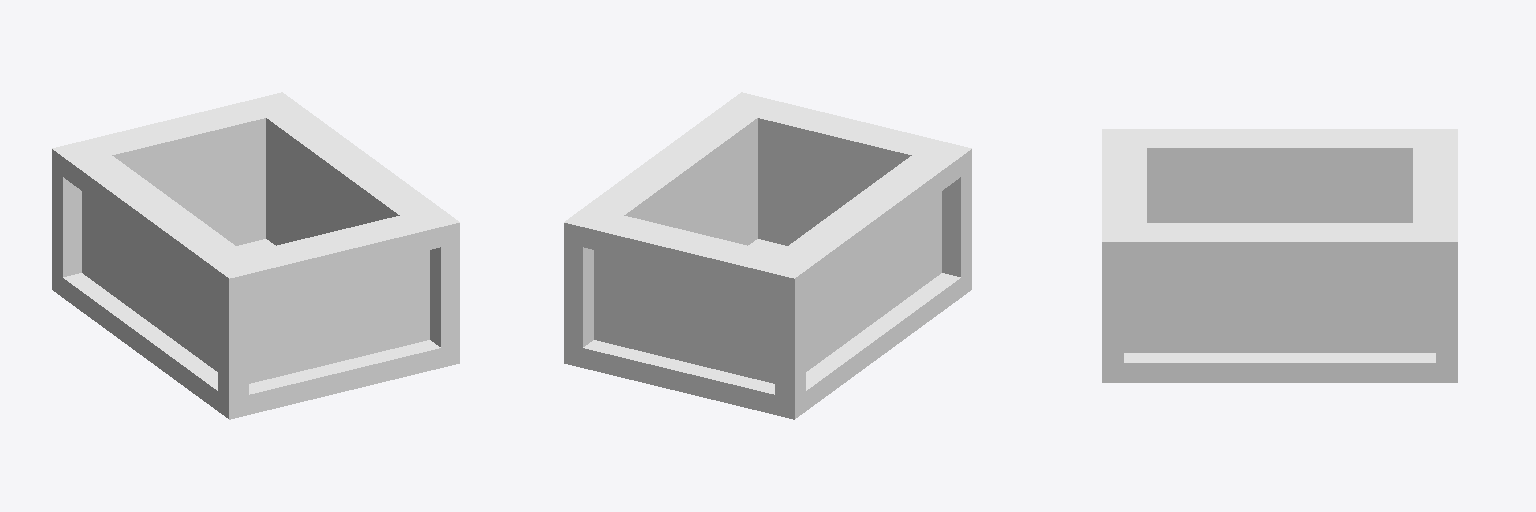
File: treasure_bottom.obj
3 views of the same model, side by side, from view 1: azimuth 30°, elevation 25°; view 2: azimuth 150°, elevation 25°; view 3: azimuth 270°, elevation 25° (orthographic).
Visible parts, largest first — view 1: object 1; view 2: object 1; view 3: object 1.
Part boxes in pixels (x1,y1,x2,y2): object 1: (52,92,459,419); object 1: (564,92,971,419); object 1: (1102,129,1457,382).
Size of the model in its own units: 1.2 by 0.7 by 1.6.